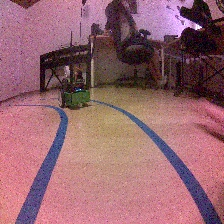rob: (57, 70, 91, 108)
